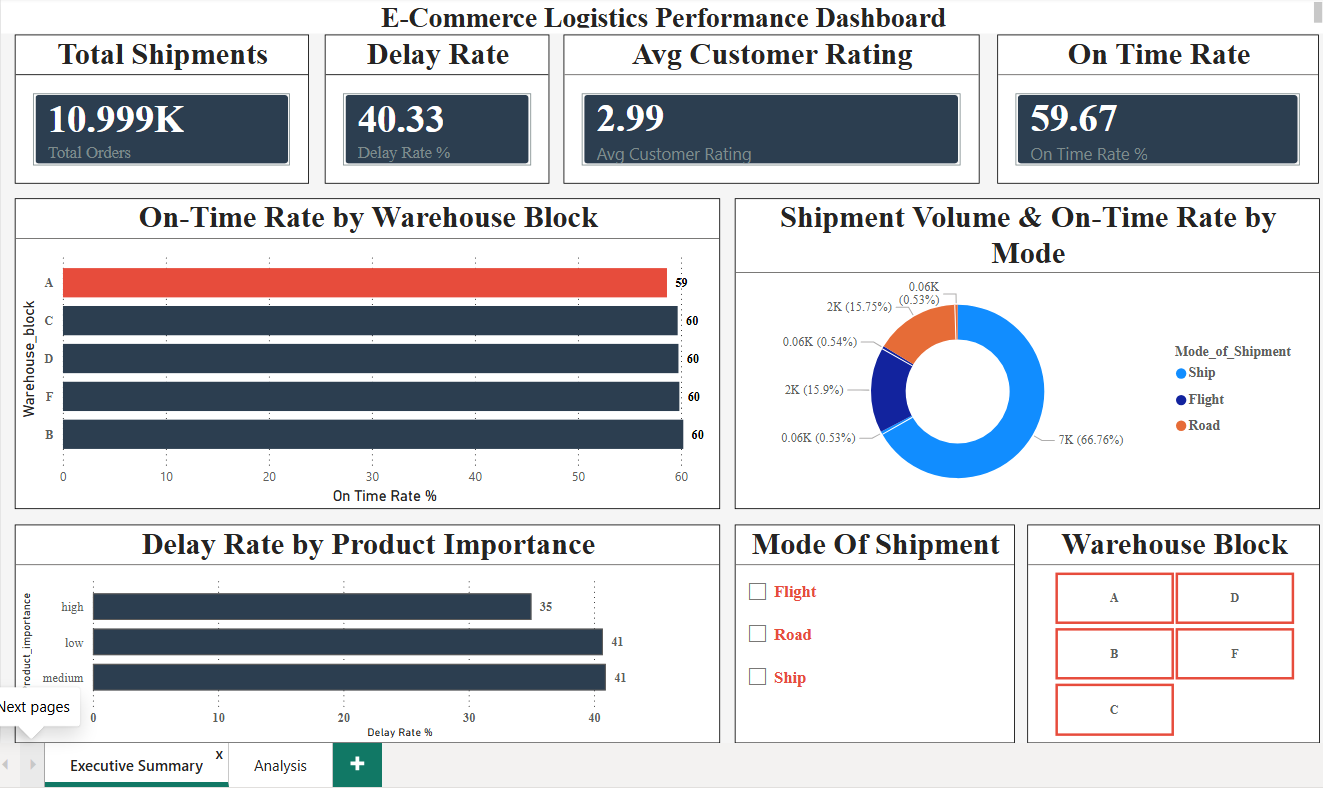

What the dashboard file says about the page in this screenshot:
{"tool":"powerbi","page":{"name":"Executive Summary","canvas":[1280,720],"ordinal":0},"visuals":[{"type":"textbox","box":[0,0,1280,35],"z":0},{"type":"cardVisual","title":"Total Shipments","fields":{"Data":["_Measures.Total Orders"]},"box":[13.4,35.7,284,144.2],"z":1000},{"type":"cardVisual","title":"On Time Rate","fields":{"Data":["_Measures.On Time Rate %"]},"box":[962.1,35.7,310.8,144.2],"z":2000},{"type":"cardVisual","title":"Delay Rate","fields":{"Data":["_Measures.Delay Rate %"]},"box":[312.3,35.7,217.1,144.2],"z":3000},{"type":"cardVisual","title":"Avg Customer Rating","fields":{"Data":["_Measures.Avg Customer Rating"]},"box":[542.8,35.7,401.5,144.2],"z":4000},{"type":"clusteredBarChart","title":"On-Time Rate by Warehouse Block","fields":{"Category":["Train.Warehouse_block"],"Y":["_Measures.On Time Rate %","_Measures.On Time Rate %"]},"box":[13.4,194.8,681,300.4],"z":5000},{"type":"donutChart","title":"Shipment Volume & On-Time Rate by Mode","fields":{"Category":["Train.Mode_of_Shipment"],"Y":["_Measures.Total Orders","_Measures.On Time Rate %"]},"box":[707.8,194.8,565.1,300.4],"z":6000},{"type":"clusteredBarChart","title":"Delay Rate by Product Importance","fields":{"Category":["Train.Product_importance"],"Y":["_Measures.Delay Rate %"]},"box":[13.4,508.6,681,211.2],"z":7000},{"type":"slicer","title":"Mode Of Shipment","fields":{"Values":["Train.Mode_of_Shipment"]},"box":[707.8,508.6,270.6,211.2],"z":8000},{"type":"slicer","title":"Warehouse Block","fields":{"Values":["Train.Warehouse_block"]},"box":[990.3,508.6,282.5,211.2],"z":9000}]}

Visuals, with their boxes on the page's 1280x720 design canvas (x1, y1, x2, y2). These are canvas units, not pixel positions in the 1323x788 screenshot, which may show the page scaled, cropped or inside an application window:
textbox: {"x1": 0, "y1": 0, "x2": 1280, "y2": 35}
"Total Shipments" cardVisual: {"x1": 13, "y1": 36, "x2": 297, "y2": 180}
"On Time Rate" cardVisual: {"x1": 962, "y1": 36, "x2": 1273, "y2": 180}
"Delay Rate" cardVisual: {"x1": 312, "y1": 36, "x2": 529, "y2": 180}
"Avg Customer Rating" cardVisual: {"x1": 543, "y1": 36, "x2": 944, "y2": 180}
"On-Time Rate by Warehouse Block" clusteredBarChart: {"x1": 13, "y1": 195, "x2": 694, "y2": 495}
"Shipment Volume & On-Time Rate by Mode" donutChart: {"x1": 708, "y1": 195, "x2": 1273, "y2": 495}
"Delay Rate by Product Importance" clusteredBarChart: {"x1": 13, "y1": 509, "x2": 694, "y2": 720}
"Mode Of Shipment" slicer: {"x1": 708, "y1": 509, "x2": 978, "y2": 720}
"Warehouse Block" slicer: {"x1": 990, "y1": 509, "x2": 1273, "y2": 720}
